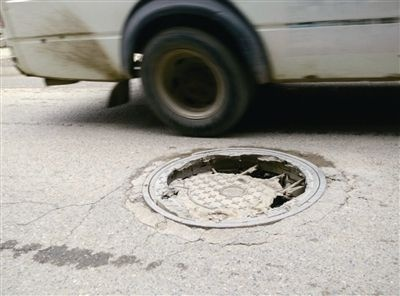broke: (140, 146, 327, 229)
